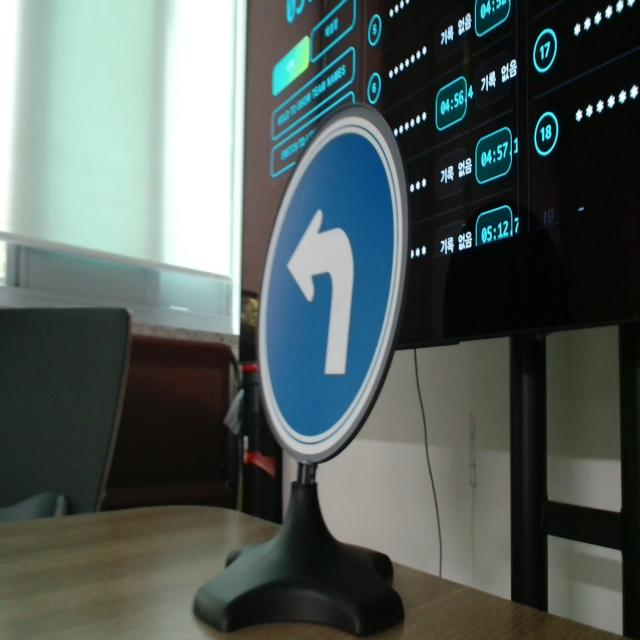left_direction: (256, 106, 432, 473)
